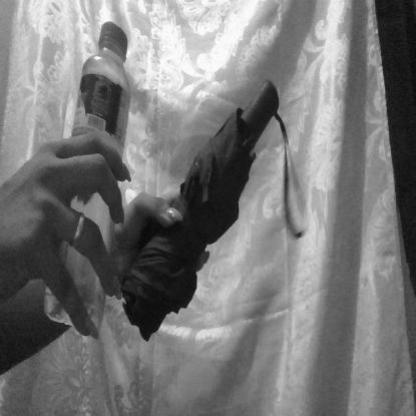Plastic Bottle: (39, 19, 129, 327)
